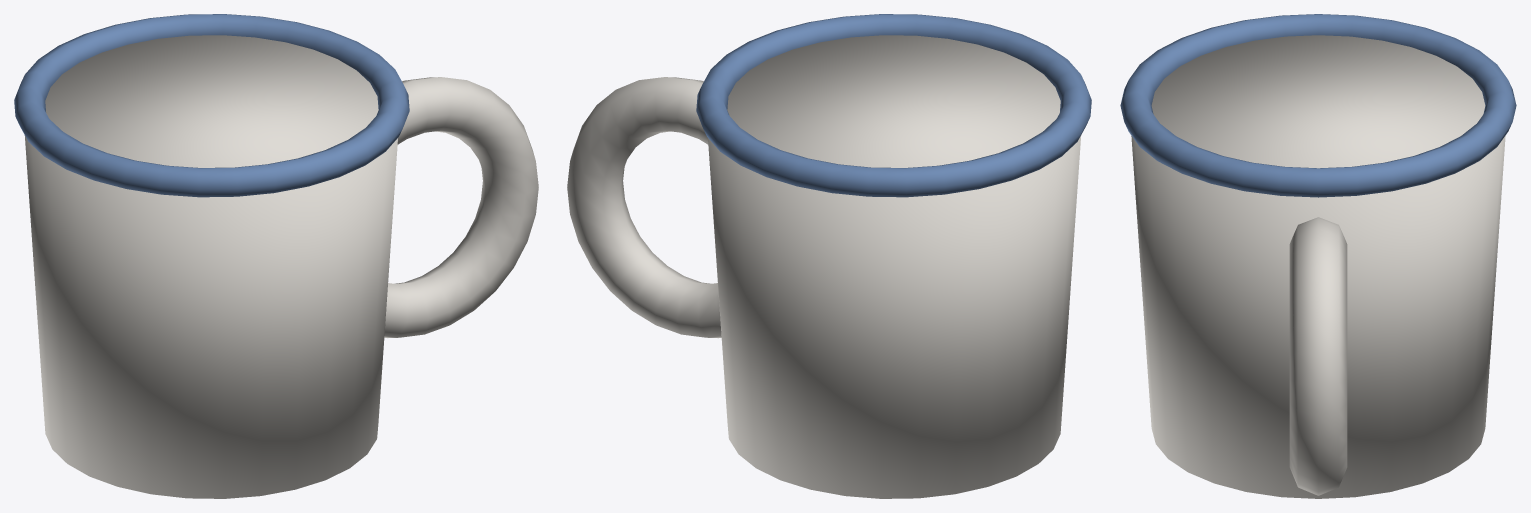
The model's file is mug.glb.
The picture shows the model from 3 angles, left to right: view 1: azimuth 30°, elevation 25°; view 2: azimuth 150°, elevation 25°; view 3: azimuth 270°, elevation 25°; orthographic projection.
Visible parts, largest first — view 1: Body, Rim, Handle; view 2: Body, Rim, Handle; view 3: Body, Rim, Handle.
Boxes of the visible parts, left/top/right/bottom form: Body: left=24, top=35, right=397, bottom=498; Rim: left=14, top=14, right=409, bottom=197; Handle: left=384, top=77, right=538, bottom=338; Body: left=708, top=35, right=1081, bottom=498; Rim: left=696, top=14, right=1091, bottom=197; Handle: left=567, top=77, right=721, bottom=338; Body: left=1131, top=35, right=1505, bottom=498; Rim: left=1120, top=14, right=1516, bottom=197; Handle: left=1289, top=217, right=1347, bottom=495.
Size of the model in its own units: 0.257 by 0.167 by 0.178.
